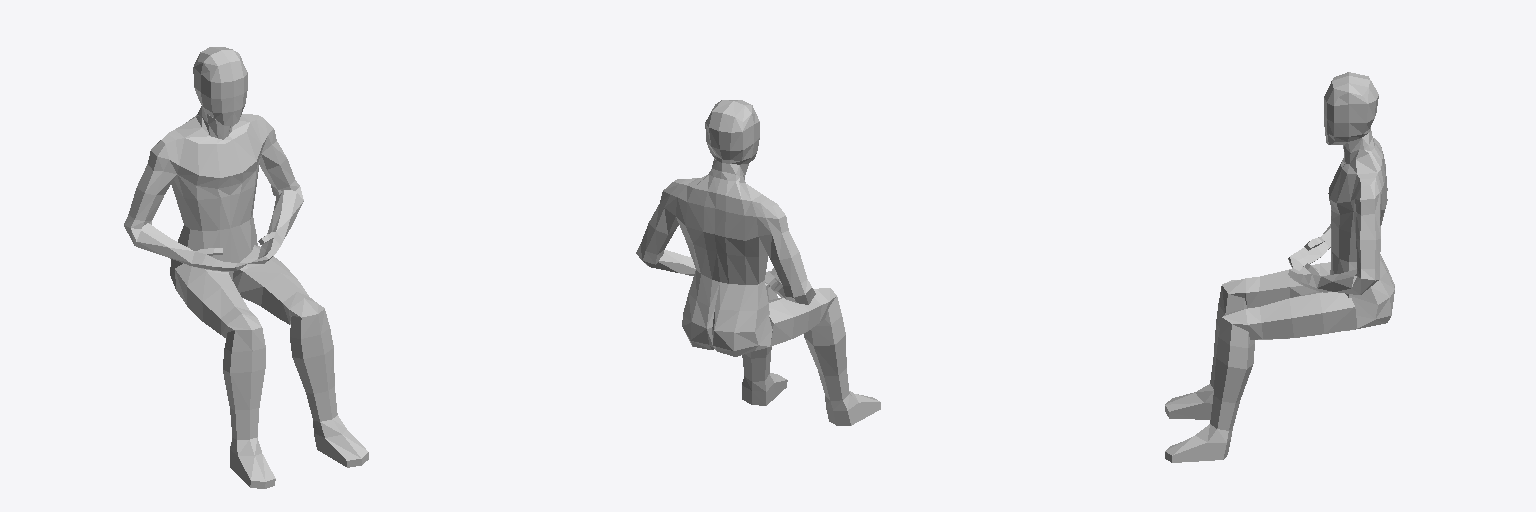
File: basemesh_sit.obj
The picture shows the model from 3 angles: view 1: azimuth 30°, elevation 25°; view 2: azimuth 150°, elevation 25°; view 3: azimuth 270°, elevation 25°; orthographic projection.
Parts seen in each view (by area): view 1: Cylinder; view 2: Cylinder; view 3: Cylinder.
Boxes of the visible parts, <box> form: Cylinder: <box>124,47,368,488</box>; Cylinder: <box>636,100,880,425</box>; Cylinder: <box>1165,72,1394,462</box>.
Size of the model in its own units: 0.6574 by 1.33 by 0.7723.